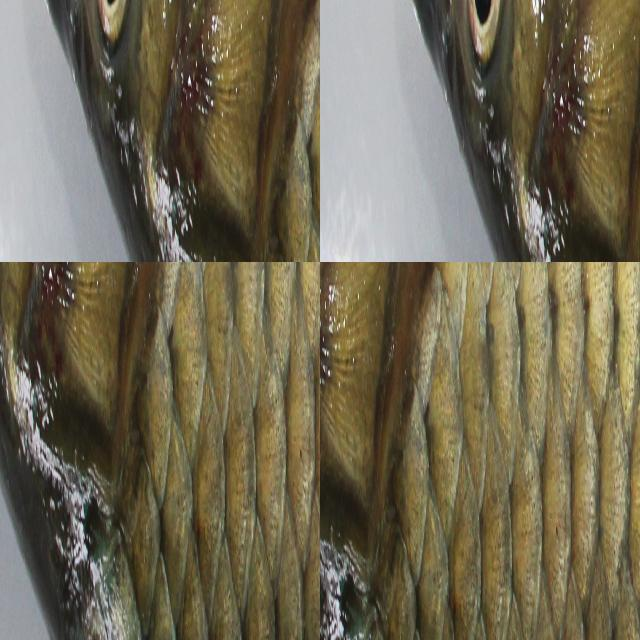fish: (320, 262, 640, 640)
